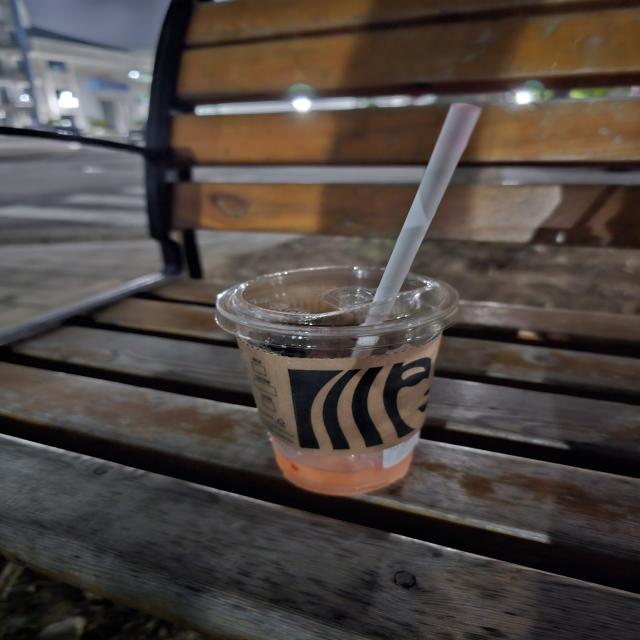cup: (211, 254, 467, 500)
